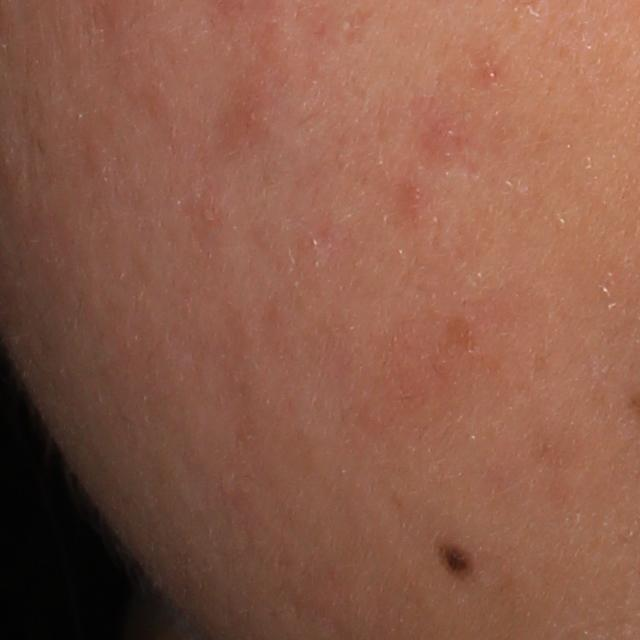atrophic_scar: (338, 5, 376, 44)
nevus: (437, 538, 479, 580)
